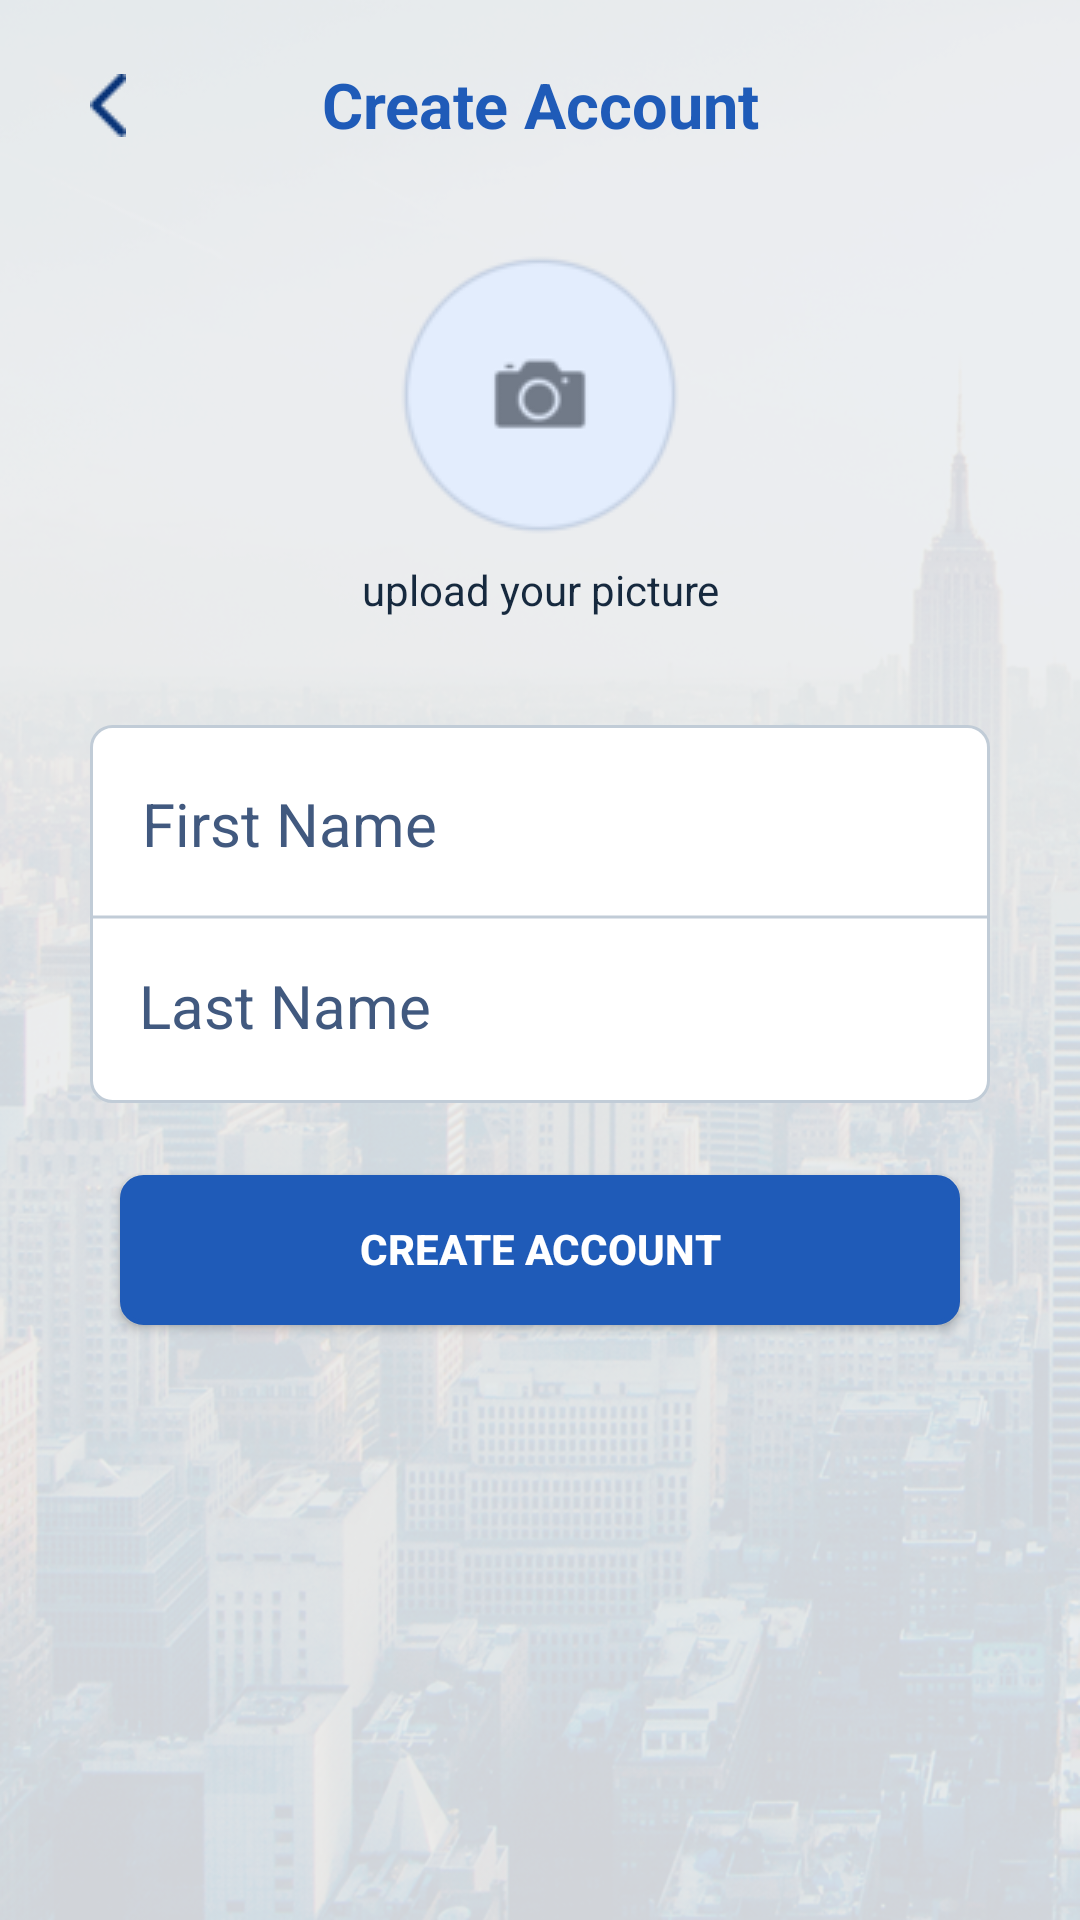

Screen size 1080 x 1920. Icon name, then its center in pixels as (x=x, y=y):
back: (x=108, y=105)
camera create: (x=540, y=395)
